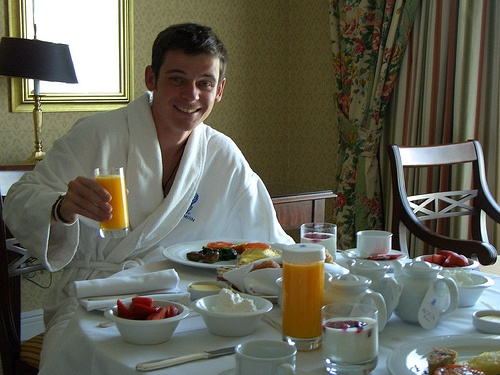head: (143, 23, 228, 134)
person: (9, 17, 288, 273)
